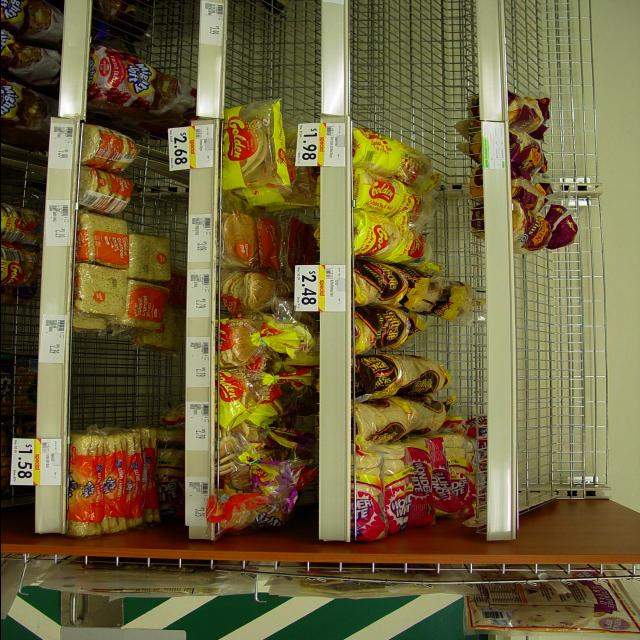empty_space: (512, 257, 584, 505), (504, 0, 584, 94), (389, 3, 439, 137), (70, 350, 154, 424), (268, 4, 312, 100), (416, 322, 474, 358), (157, 6, 190, 66), (439, 210, 469, 270), (138, 200, 189, 233), (450, 364, 478, 404)
